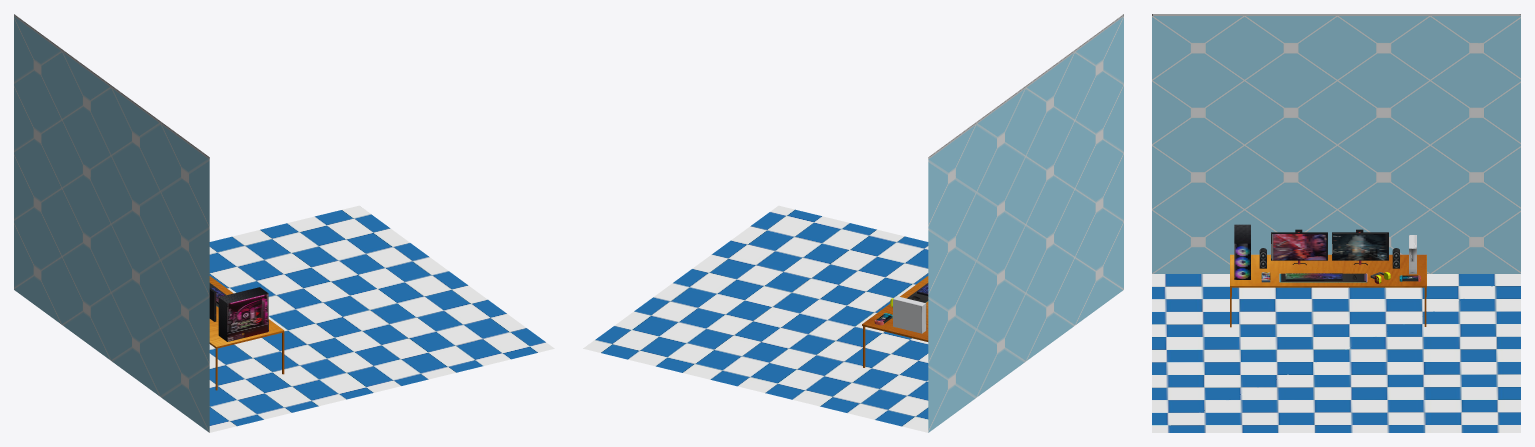
The model's file is gaming_pc.glb.
The picture shows the model from 3 angles, left to right: view 1: azimuth 30°, elevation 25°; view 2: azimuth 150°, elevation 25°; view 3: azimuth 270°, elevation 25°; orthographic projection. The views are drawn at different scales.
Visible parts, largest first — view 1: Cube.002, Cube.021, Cube.001; view 2: Cube.002, Cube.001, Cube.012; view 3: Cube.002, Cube.001, Cube.004, Cube.015, Cube.021, Cube.000, Cube.014.
Part boxes in pixels (box(x1,y1,x2,y2)): Cube.002: box(14, 14, 554, 432); Cube.021: box(218, 287, 268, 341); Cube.001: box(209, 276, 284, 390); Cube.002: box(583, 14, 1123, 432); Cube.001: box(862, 276, 928, 367); Cube.012: box(893, 296, 926, 333); Cube.002: box(1152, 14, 1520, 432); Cube.001: box(1230, 254, 1426, 327); Cube.004: box(1332, 229, 1388, 265); Cube.015: box(1271, 229, 1327, 264); Cube.021: box(1234, 224, 1250, 279); Cube.000: box(1285, 273, 1342, 280); Cube.014: box(1279, 273, 1367, 282).
Bounding box in the file's own units: 16.67 × 12.72 × 16.34.
Materials: 13 (13 with a texture image).
